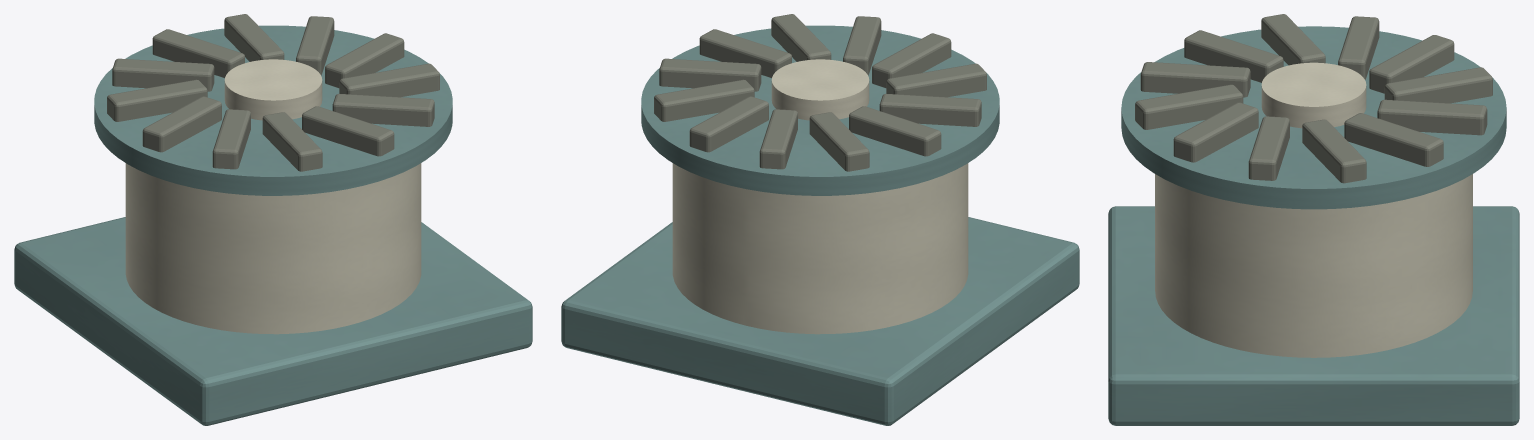
The model's file is Ventilator.glb.
The picture shows the model from 3 angles, left to right: view 1: azimuth 30°, elevation 25°; view 2: azimuth 150°, elevation 25°; view 3: azimuth 270°, elevation 25°; orthographic projection. The views are drawn at different scales.
Parts seen in each view (by area): view 1: Ventilator; view 2: Ventilator; view 3: Ventilator.
Boxes of the visible parts, <box> form: Ventilator: <box>14,14,532,425</box>; Ventilator: <box>561,14,1079,425</box>; Ventilator: <box>1108,14,1519,425</box>.
Size of the model in its own units: 2.2 by 1.51 by 2.2.
3 materials, 2 textured.
